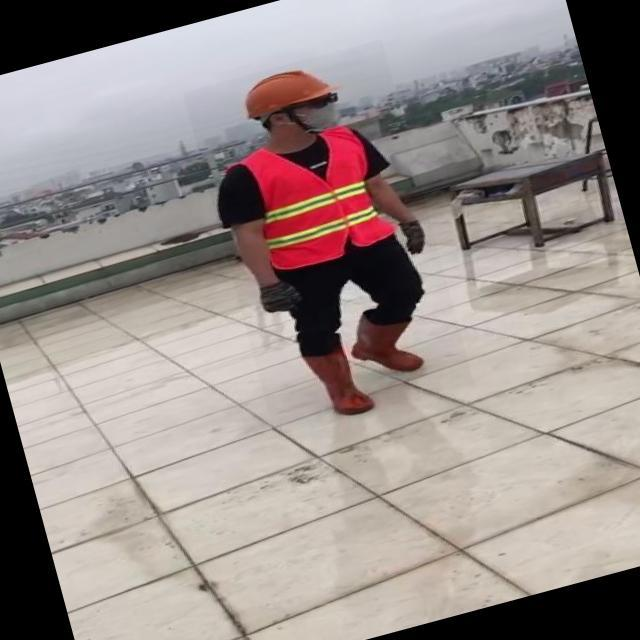Gloves: (254, 276, 304, 317), (401, 217, 432, 257)
Helmet: (230, 53, 344, 123)
Human: (183, 39, 474, 436)
Safety Boot: (344, 302, 427, 383), (301, 342, 377, 423)
Safety Vest: (231, 121, 402, 278)
